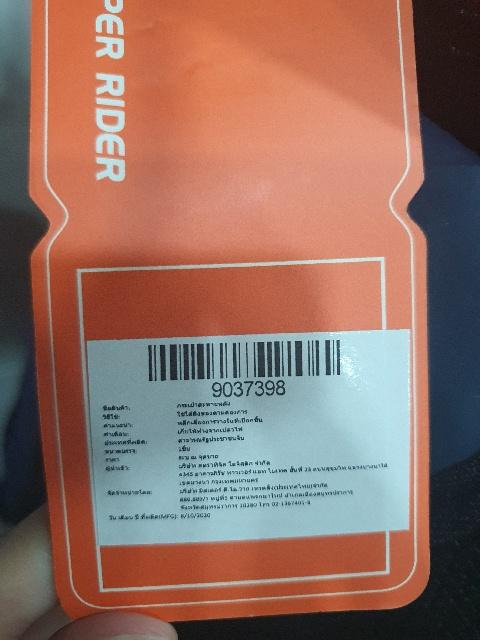Barcode: (138, 333, 354, 399)
